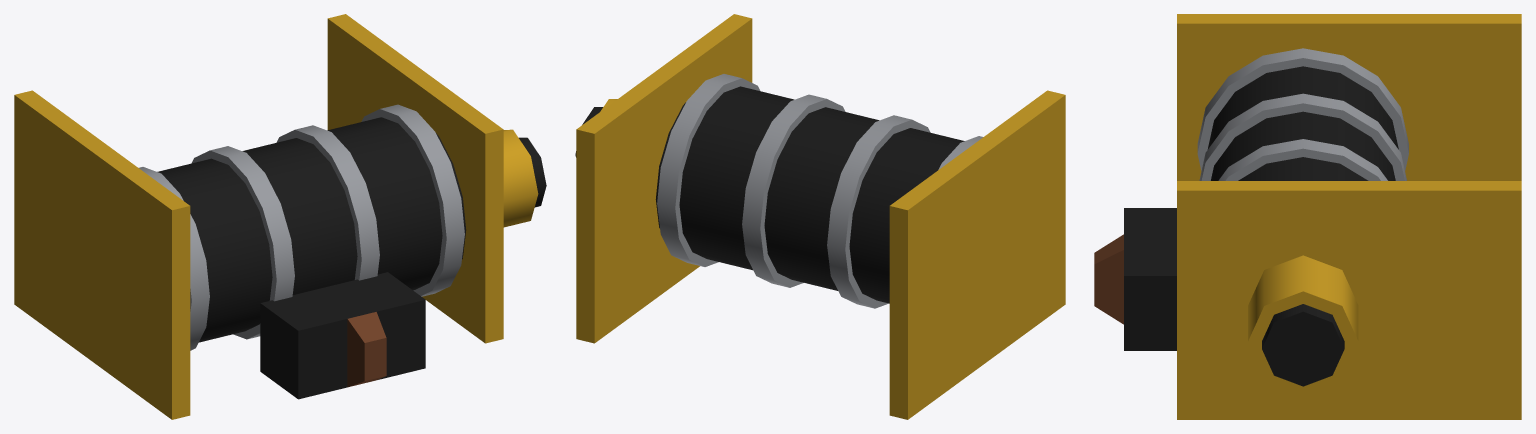
The model's file is trh_winch.obj.
The picture shows the model from 3 angles, left to right: view 1: azimuth 30°, elevation 25°; view 2: azimuth 150°, elevation 25°; view 3: azimuth 270°, elevation 25°; orthographic projection. The views are drawn at different scales.
Parts seen in each view (by area): view 1: trh_winch; view 2: trh_winch; view 3: trh_winch.
Part boxes in pixels (left/top/right/bottom): trh_winch: left=14, top=14, right=546, bottom=419; trh_winch: left=575, top=14, right=1065, bottom=419; trh_winch: left=1094, top=14, right=1521, bottom=419.
Size of the model in its own units: 2.27 by 1.1 by 1.86.
